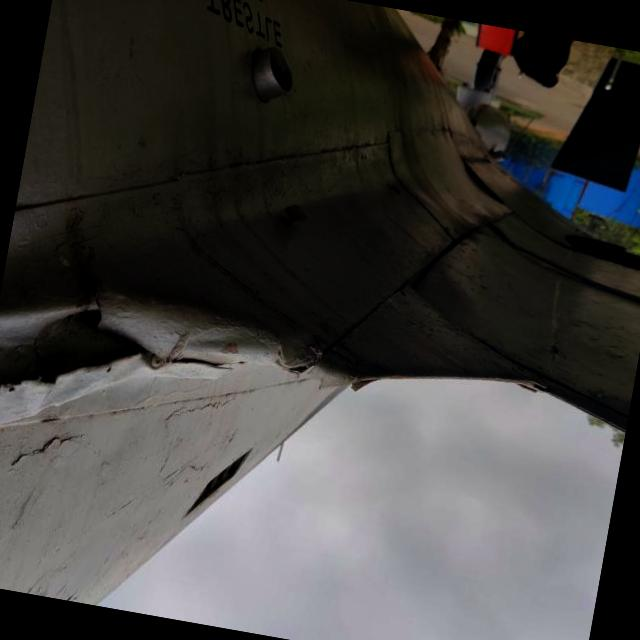crack: (320, 354, 392, 408), (270, 343, 322, 395)
